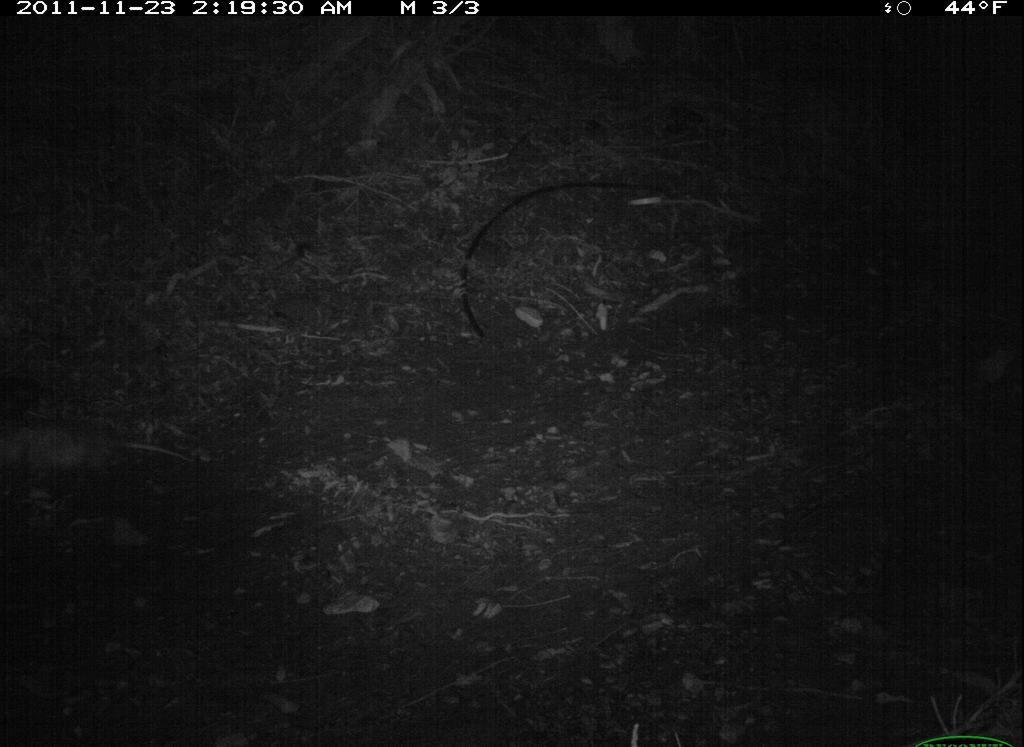opossum: (2, 409, 218, 512)
